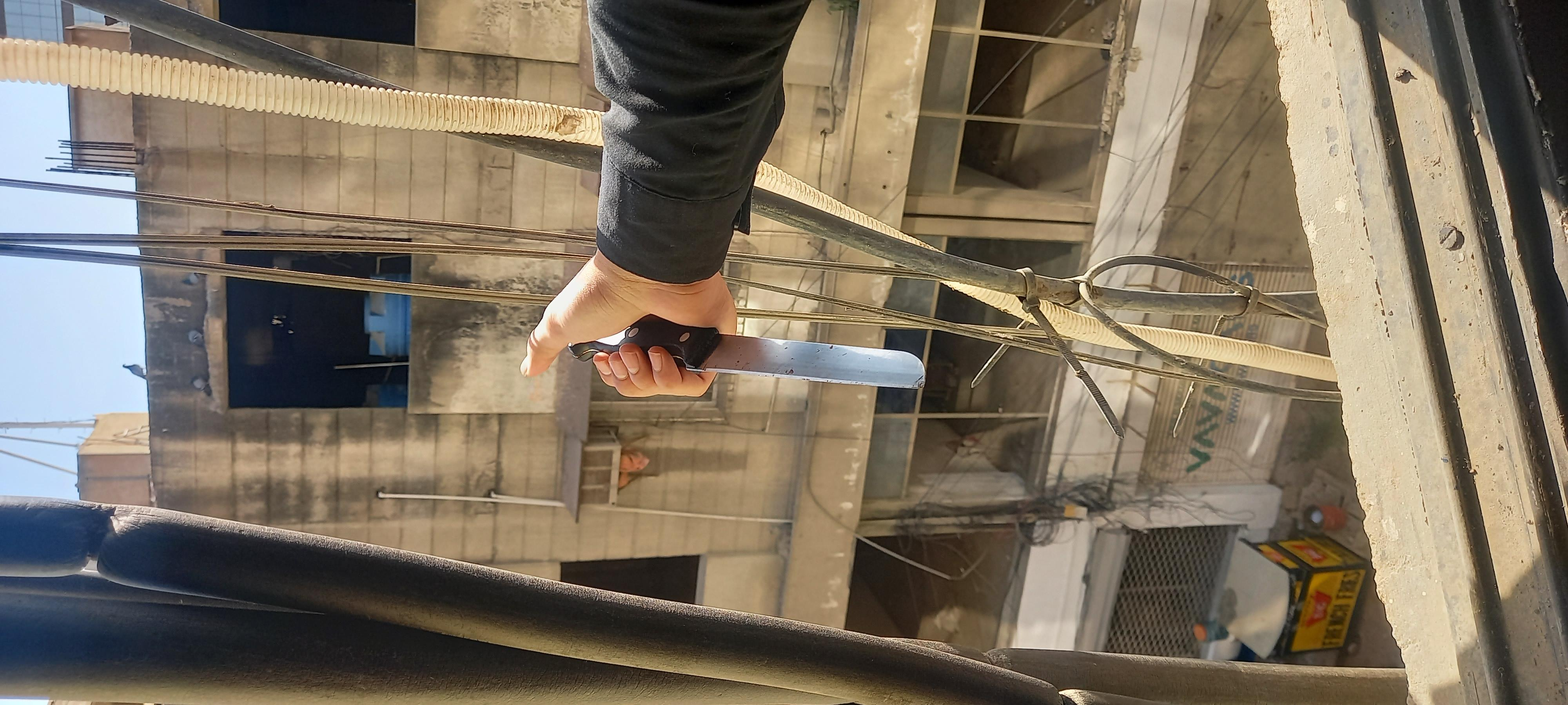knives: (678, 232, 848, 424)
